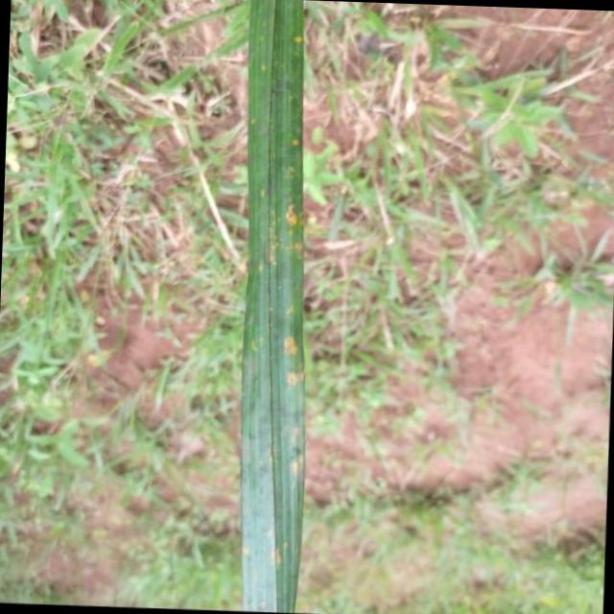Kalium: (244, 0, 308, 614)
